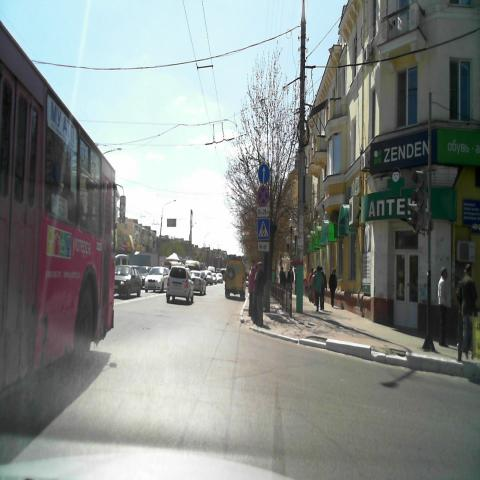8_15: (257, 242, 269, 252)
8_5_4: (258, 207, 270, 217)
